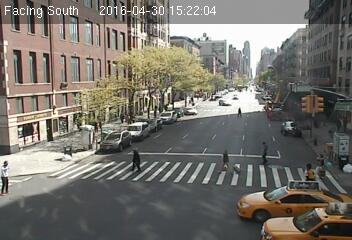neg: (5, 54, 28, 83), (14, 119, 34, 146), (52, 4, 70, 27), (55, 65, 72, 88), (99, 25, 116, 47), (321, 113, 337, 134), (273, 104, 287, 123), (49, 36, 63, 55), (161, 99, 174, 117), (77, 126, 90, 143), (41, 128, 53, 144), (242, 78, 254, 93), (215, 73, 226, 88), (100, 116, 111, 131), (218, 33, 227, 46), (301, 74, 310, 86)
pos: (296, 163, 321, 196), (126, 146, 147, 175), (1, 159, 22, 188), (256, 139, 274, 162), (314, 153, 331, 176), (220, 147, 236, 168), (233, 104, 244, 118), (117, 110, 127, 123)
